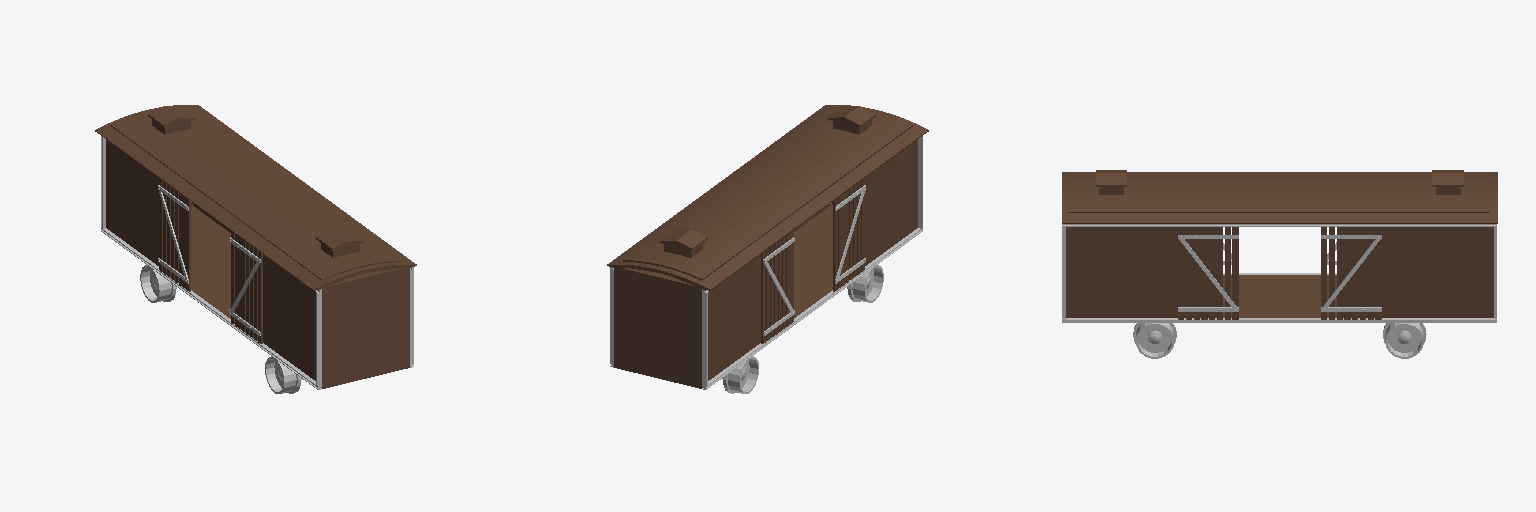
File: Train_Wagon2.obj
The picture shows the model from 3 angles: view 1: azimuth 30°, elevation 25°; view 2: azimuth 150°, elevation 25°; view 3: azimuth 270°, elevation 25°; orthographic projection.
Parts seen in each view (by area): view 1: object_1, object_72, object_92, object_65, object_2, object_63, object_61, object_67; view 2: object_1, object_72, object_92, object_65, object_2, object_61, object_63, object_66; view 3: object_1, object_72, object_92, object_69, object_62, object_68, object_60, object_2, object_40, object_14, object_18, object_36.
Part boxes in pixels (x1,y1,x2,y2): object_1: (95,105,416,290); object_72: (106,140,409,388); object_92: (191,205,407,388); object_65: (101,228,321,389); object_2: (148,106,195,134); object_63: (265,356,301,393); object_61: (140,265,176,302); object_67: (316,293,321,386); object_1: (607,105,928,290); object_72: (614,140,917,388); object_92: (614,205,832,387); object_65: (702,228,922,389); object_2: (660,229,707,257); object_61: (722,356,758,393); object_63: (847,265,883,302); object_66: (702,293,707,386); object_1: (1062,170,1497,223); object_72: (1066,227,1493,317); object_92: (1223,275,1336,317); object_69: (1062,318,1496,322); object_62: (1133,323,1176,358); object_68: (1062,224,1496,226); object_60: (1383,323,1426,358); object_2: (1432,170,1463,194); object_40: (1232,227,1238,319); object_14: (1375,227,1381,319); object_18: (1344,227,1350,319); object_36: (1201,227,1207,319).
Bounding box in the file's own units: 38.41 × 58.75 × 141.